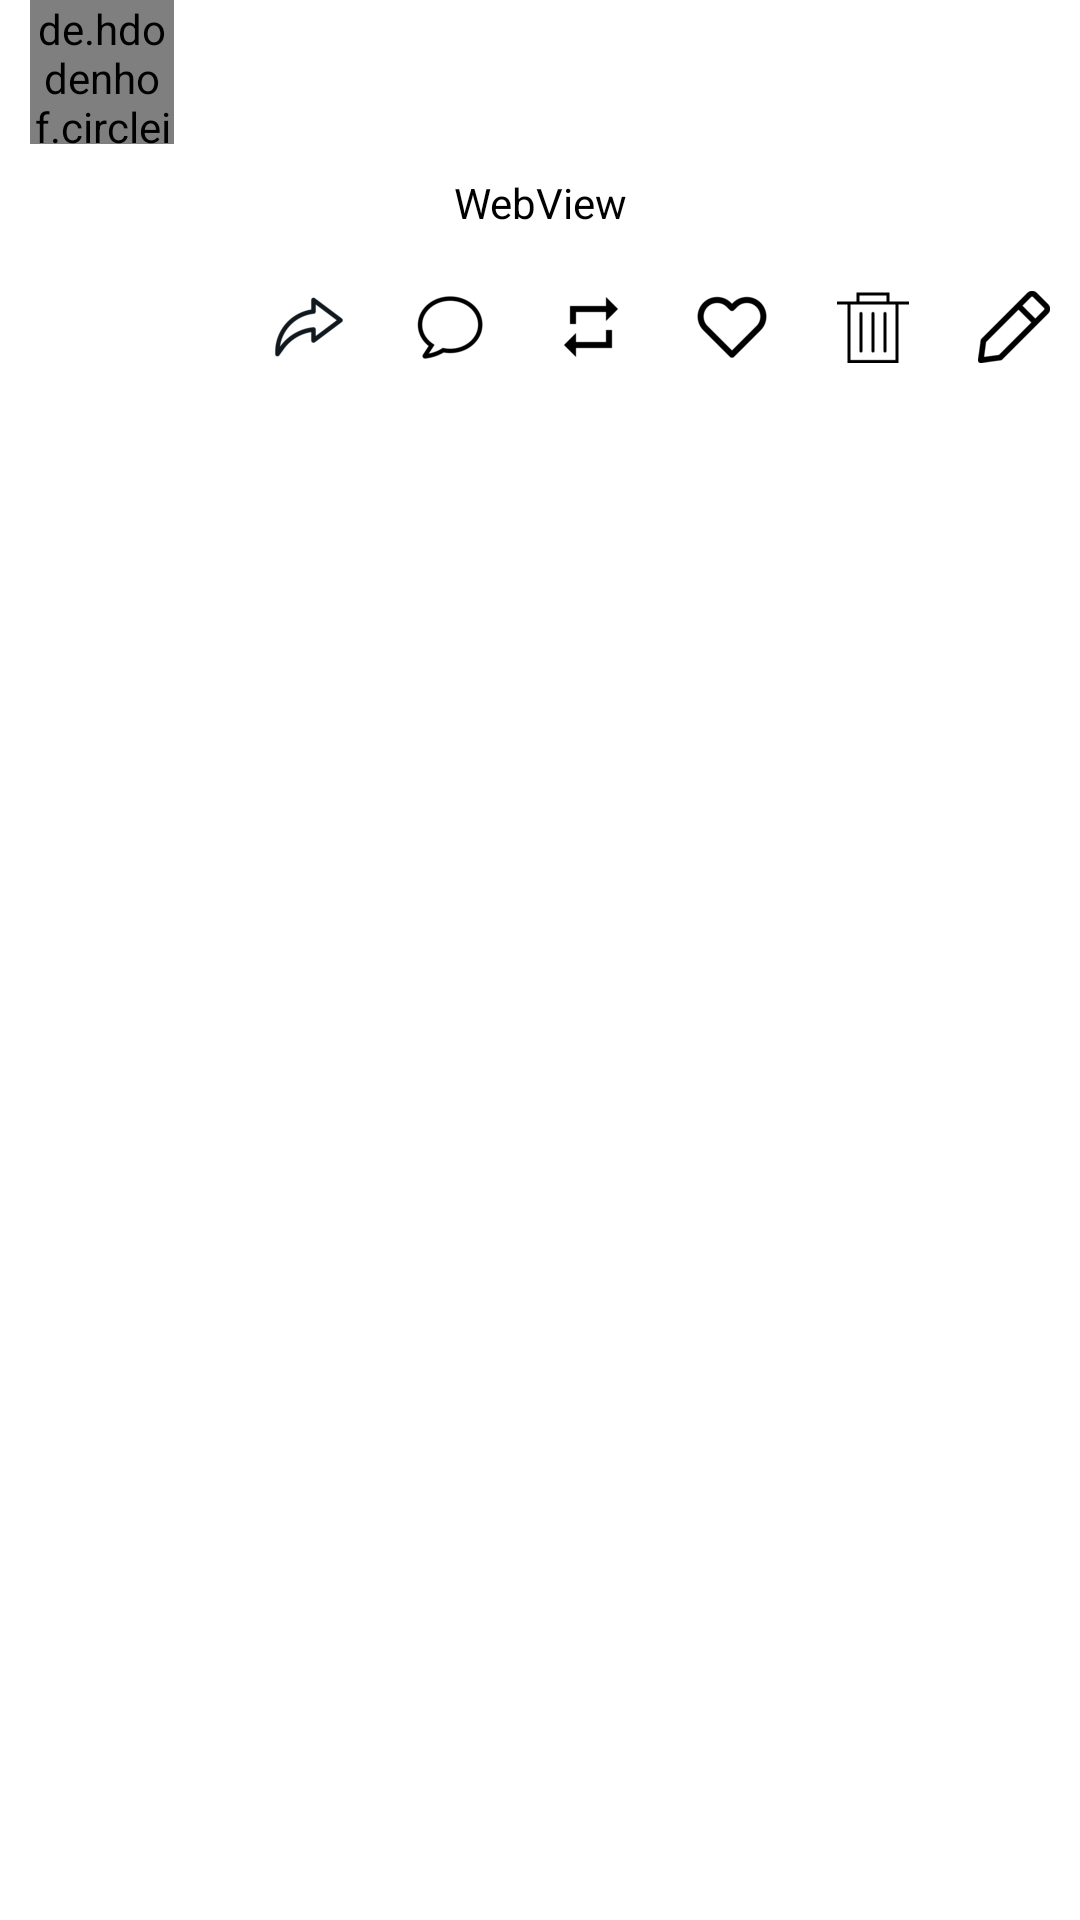

Where to tap for icons on this 1080x1920 app screen, as [x,y]:
delete garbage: [873,327]
forward next right sha: [309,327]
heart: [732,327]
repeat: [591,327]
